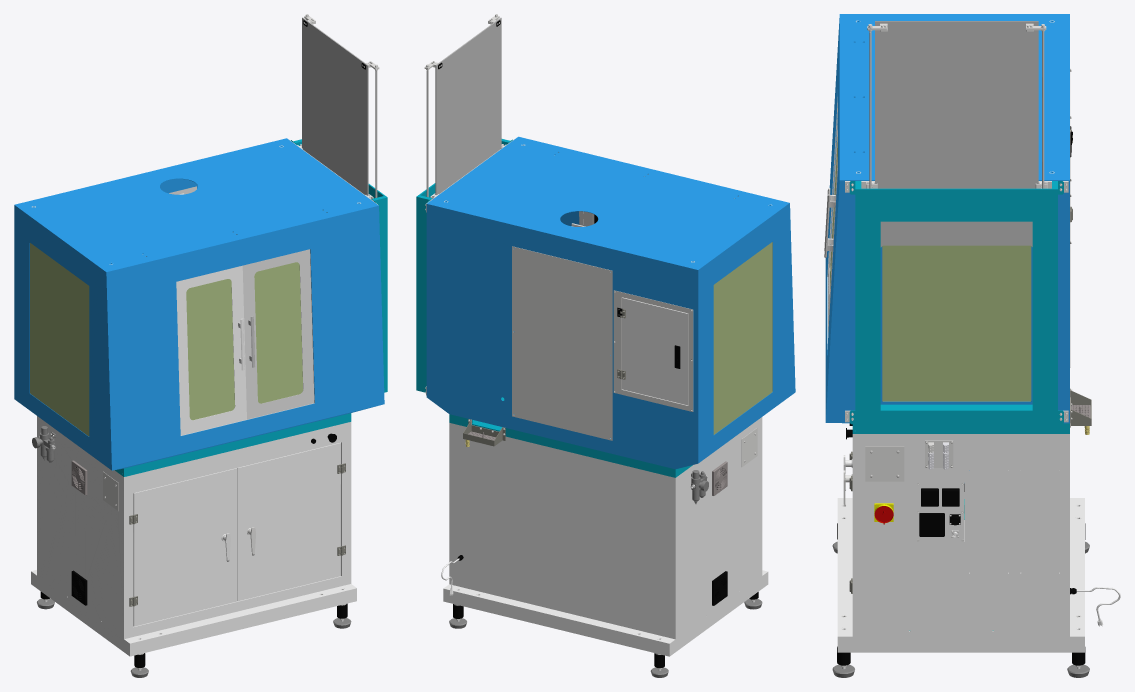
File: Mill.fbx
3 views of the same model, side by side, from view 1: azimuth 30°, elevation 25°; view 2: azimuth 150°, elevation 25°; view 3: azimuth 270°, elevation 25° (orthographic). The views are drawn at different scales.
Parts seen in each view (by area): view 1: 4; view 2: 4; view 3: 4.
Part boxes in pixels (bbox=[...]): 4: bbox=[14, 14, 387, 677]; 4: bbox=[416, 14, 795, 677]; 4: bbox=[824, 14, 1120, 677].
Size of the model in its own units: 139 by 250 by 99.46.
